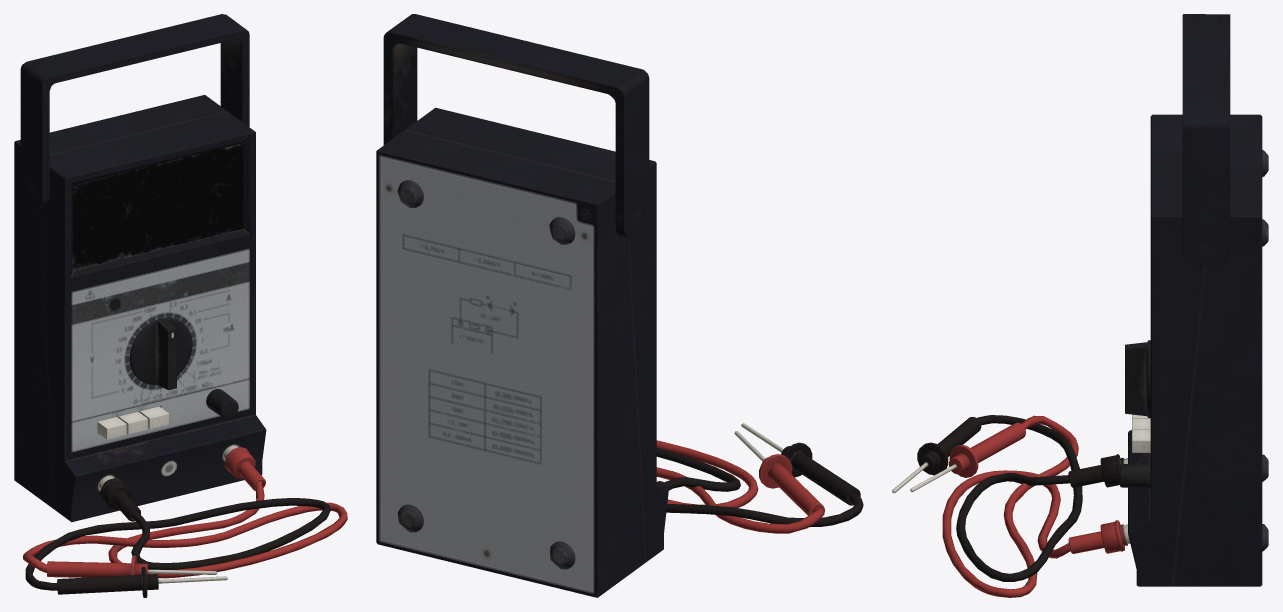
Rendered from iv_pump.glb.
The picture shows the model from 3 angles, left to right: view 1: azimuth 30°, elevation 25°; view 2: azimuth 150°, elevation 25°; view 3: azimuth 270°, elevation 25°; orthographic projection. The views are drawn at different scales.
Visible parts, largest first — view 1: iv_pump2; view 2: iv_pump2; view 3: iv_pump2.
Boxes of the visible parts, bbox=[...] form: iv_pump2: bbox=[14, 14, 347, 597]; iv_pump2: bbox=[376, 14, 863, 597]; iv_pump2: bbox=[892, 14, 1268, 597].
Size of the model in its own units: 0.2155 by 0.2786 by 0.2024.
Materials: 2 (2 with a texture image).
